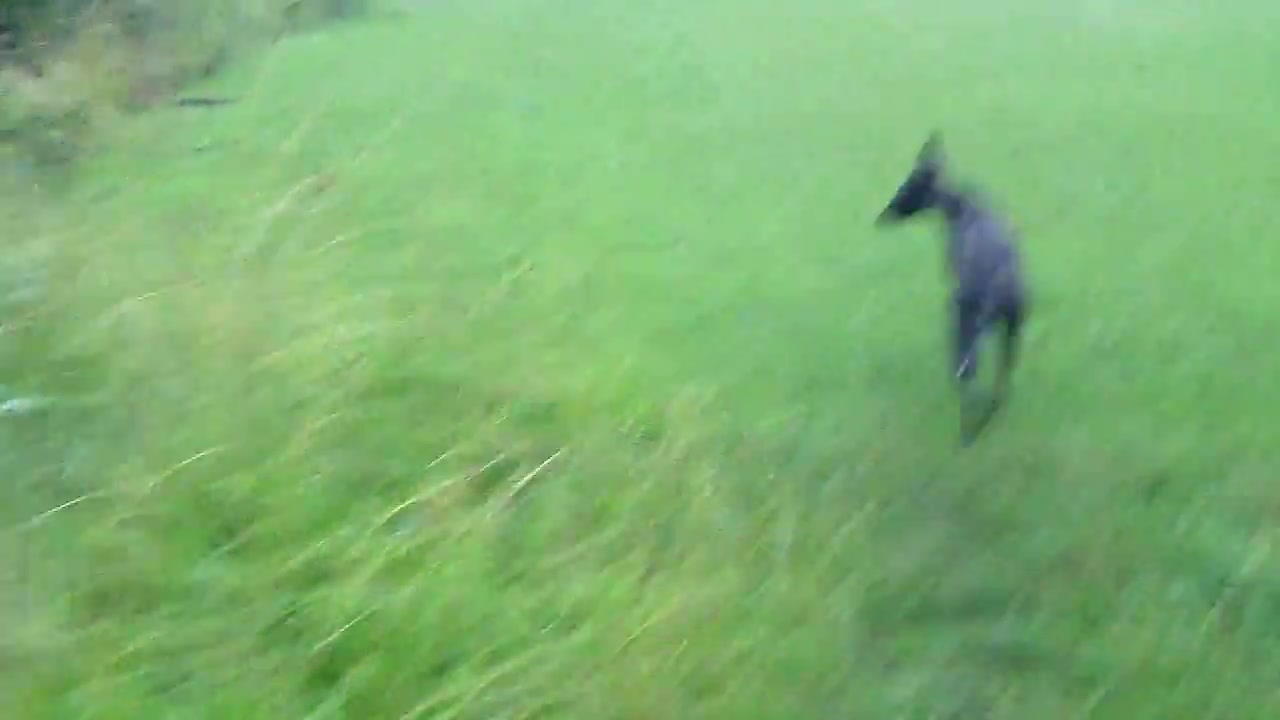dog: (870, 135, 1029, 383)
